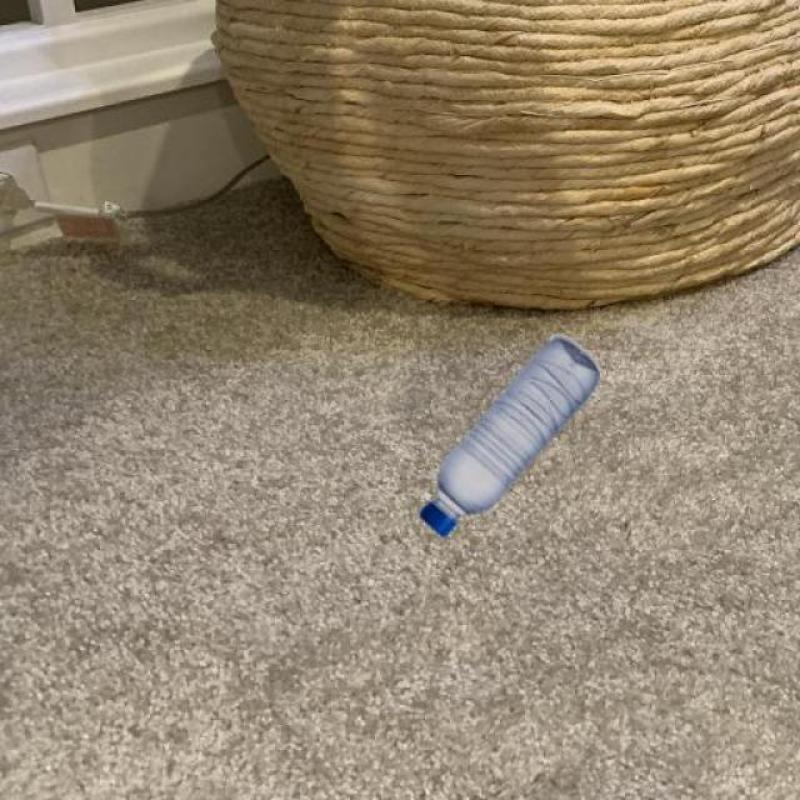botella: (419, 337, 600, 538)
